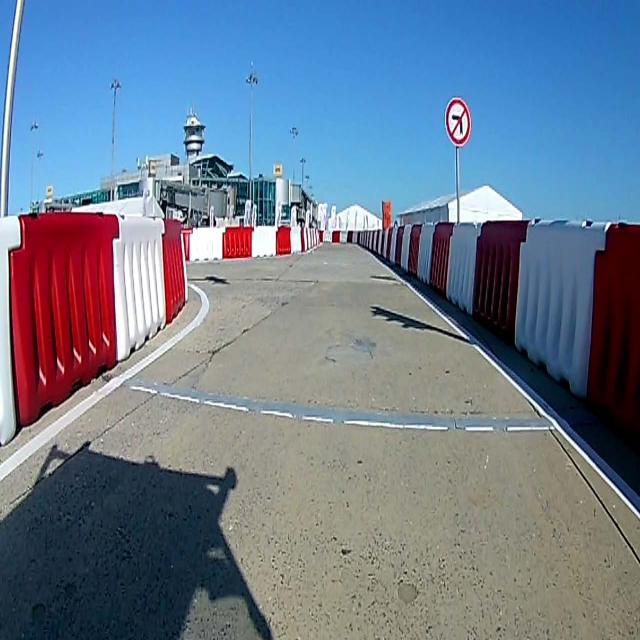soladonulmez: (445, 98, 470, 146)
